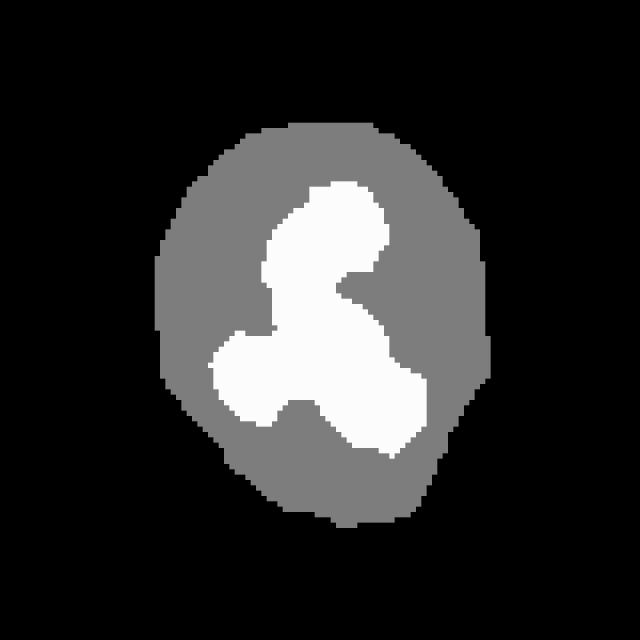WBC: (123, 96, 517, 555)
